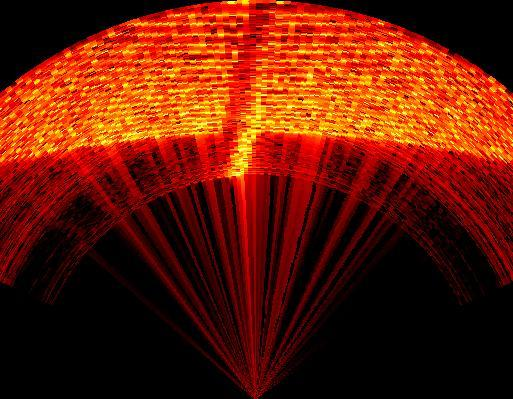pipe: (213, 2, 279, 178)
